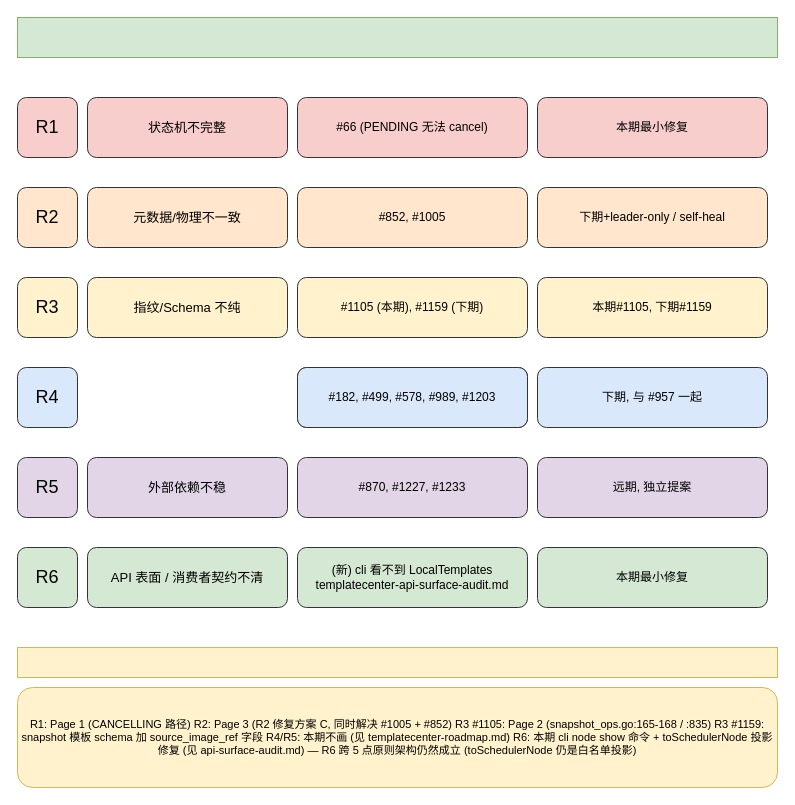
The diagram is 795 pixels wide and 805 high, and some of its shapes have lost their labels. Each missing label, with the centre of its shape:
Page 4: 5+1 根因 + R6 (5 点原则架构下) -> 13+1 issue -> 状态机落点: (x=397, y=37)
状态机落点 (本期可见): (x=397, y=662)
